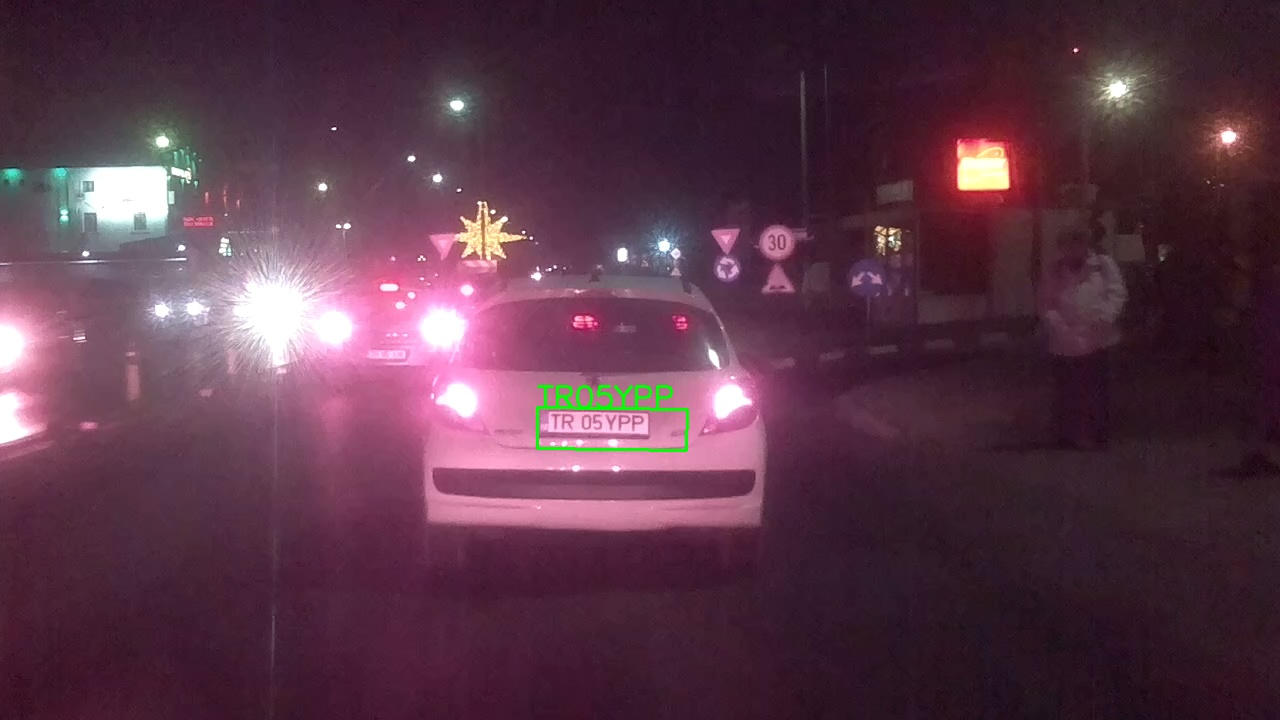license-plate: (536, 407, 688, 451)
